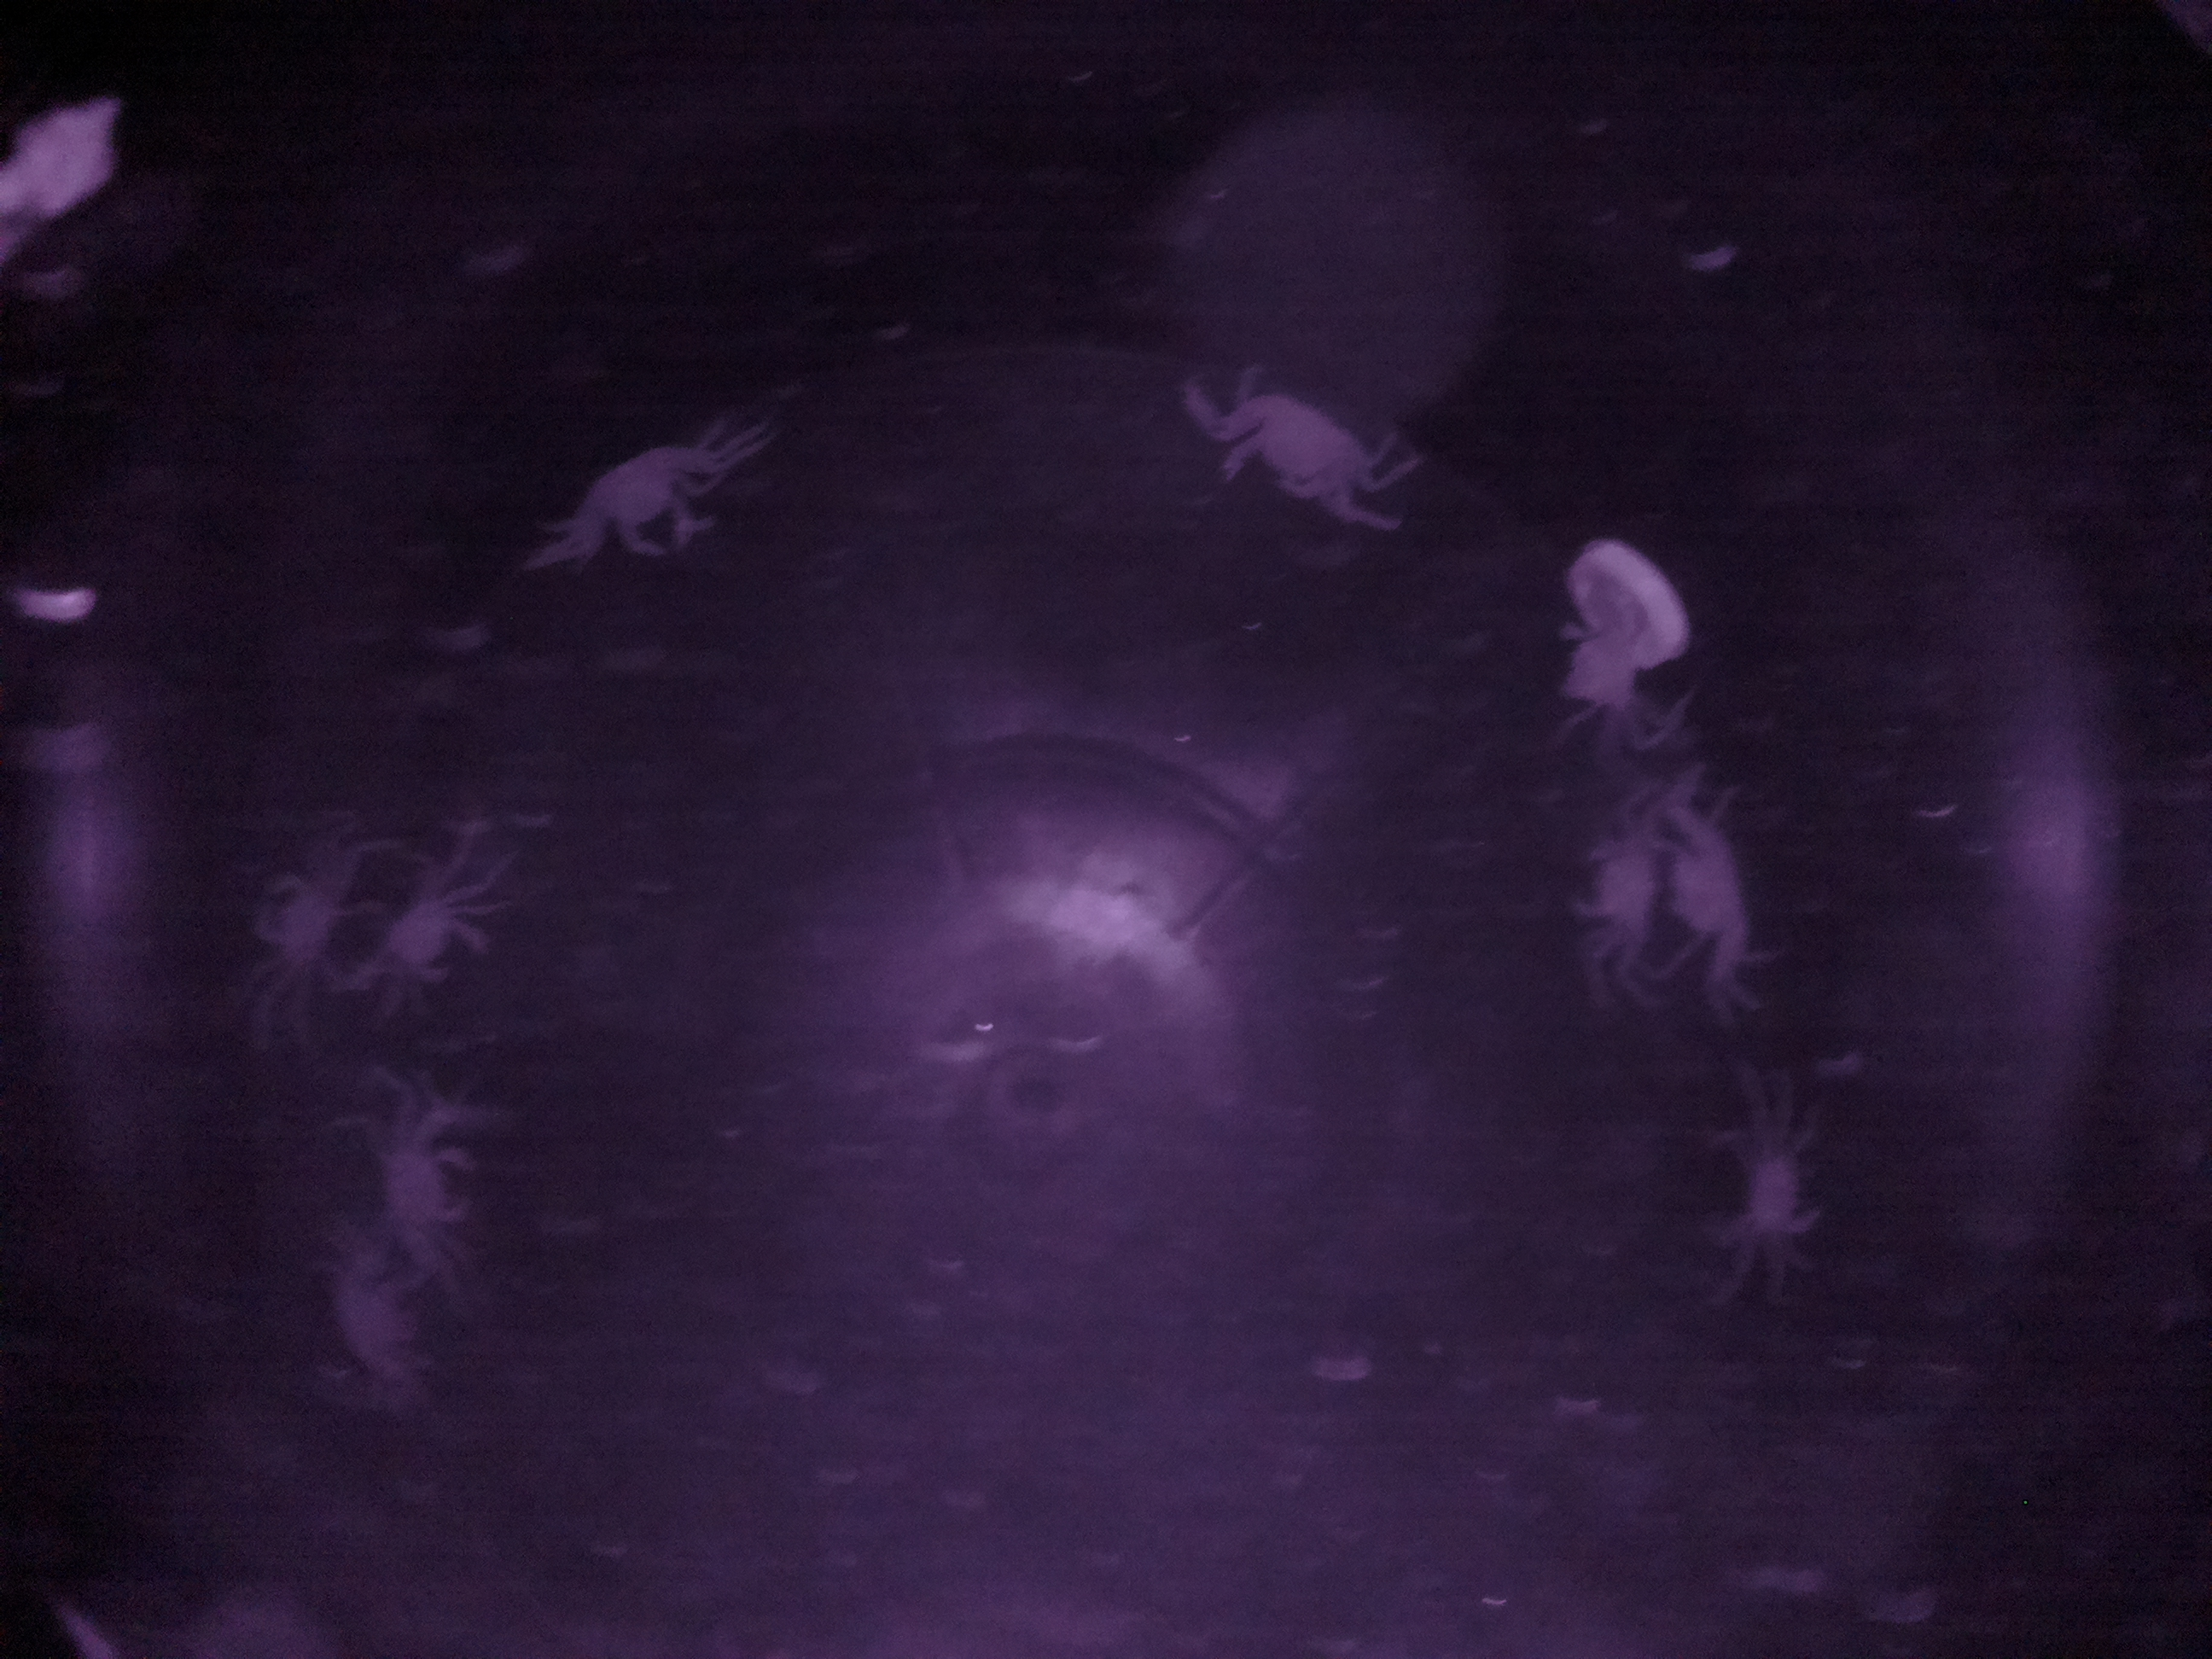Crab: (1193, 347, 1395, 540), (563, 406, 721, 612)
